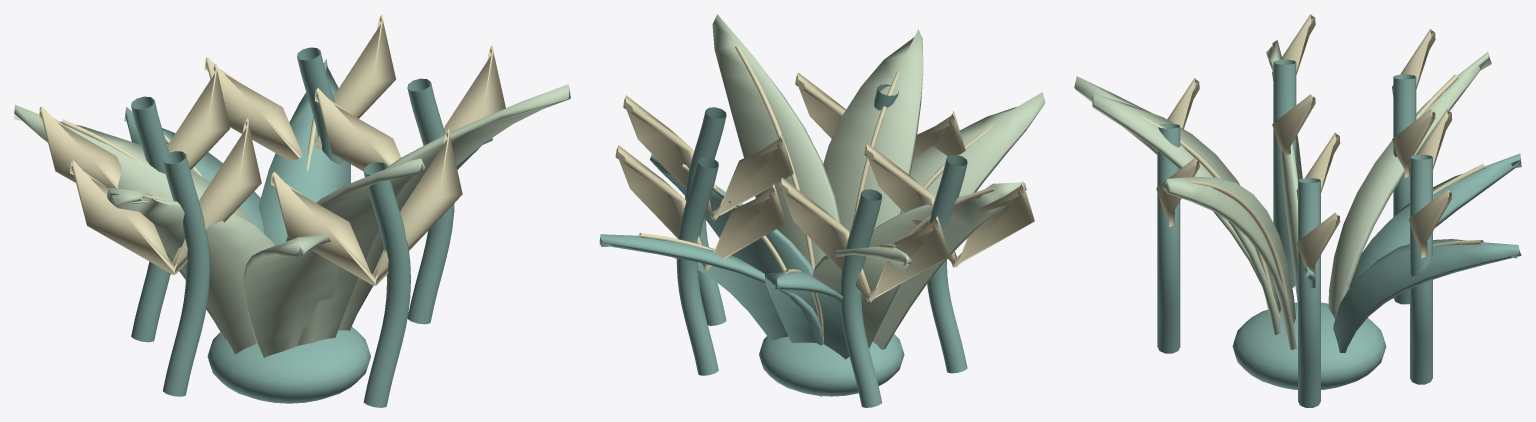
Rendered from bio_mist_leaf_02_near.glb.
3 renders of one model, left to right at view 1: azimuth 30°, elevation 25°; view 2: azimuth 150°, elevation 25°; view 3: azimuth 270°, elevation 25°, orthographic. The views are drawn at different scales.
Parts seen in each view (by area): view 1: Root rosette, Cupped condensate leaf.007, Secondary fan lobe.004, Cupped condensate leaf.004, Secondary fan lobe.008, Secondary fan lobe.006, Secondary fan lobe.002, Branching support.004, Branching support.002, Secondary fan lobe, Cupped condensate leaf.002, Cupped condensate leaf.003 (+6 smaller); view 2: Cupped condensate leaf.002, Cupped condensate leaf.005, Root rosette, Cupped condensate leaf.003, Secondary fan lobe, Secondary fan lobe.006, Secondary fan lobe.002, Cupped condensate leaf.004, Cupped condensate leaf.007, Secondary fan lobe.008, Branching support.001, Branching support.003 (+8 smaller); view 3: Root rosette, Cupped condensate leaf.003, Cupped condensate leaf.001, Cupped condensate leaf.005, Cupped condensate leaf.002, Branching support, Branching support.002, Branching support.003, Cupped condensate leaf.006, Branching support.004, Branching support.001, Secondary fan lobe.006 (+8 smaller).
Boxes of the visible parts, x1,y1,x2,y2 form: Root rosette: (207, 326, 370, 403); Cupped condensate leaf.007: (243, 234, 339, 357); Secondary fan lobe.004: (271, 129, 462, 285); Cupped condensate leaf.004: (107, 187, 274, 354); Secondary fan lobe.008: (70, 118, 261, 274); Secondary fan lobe.006: (204, 14, 395, 160); Secondary fan lobe.002: (38, 63, 229, 188); Branching support.004: (162, 151, 209, 396); Branching support.002: (363, 162, 410, 407); Secondary fan lobe: (314, 45, 505, 171); Cupped condensate leaf.002: (285, 158, 425, 345); Cupped condensate leaf.003: (259, 59, 350, 245); Cupped condensate leaf.002: (823, 29, 923, 233); Cupped condensate leaf.005: (712, 14, 840, 266); Root rosette: (759, 334, 904, 396); Cupped condensate leaf.003: (599, 234, 822, 345); Secondary fan lobe: (623, 95, 793, 220); Secondary fan lobe.006: (615, 145, 785, 270); Secondary fan lobe.002: (779, 177, 949, 302); Cupped condensate leaf.004: (868, 182, 1026, 349); Cupped condensate leaf.007: (901, 92, 1045, 212); Secondary fan lobe.008: (864, 143, 1034, 267); Branching support.001: (840, 189, 882, 407); Branching support.003: (676, 157, 718, 375); Root rosette: (1232, 302, 1386, 389); Cupped condensate leaf.003: (1333, 239, 1521, 352); Cupped condensate leaf.001: (1328, 52, 1491, 318); Cupped condensate leaf.005: (1162, 177, 1296, 349); Cupped condensate leaf.002: (1092, 93, 1280, 334); Branching support: (1298, 178, 1320, 407); Branching support.002: (1157, 123, 1180, 353); Branching support.003: (1410, 154, 1432, 384); Cupped condensate leaf.006: (1349, 153, 1521, 287); Branching support.004: (1273, 59, 1296, 287); Branching support.001: (1393, 74, 1416, 304); Secondary fan lobe.006: (1408, 109, 1452, 258).
Size of the model in its own units: 1.85 by 1.25 by 1.74.
